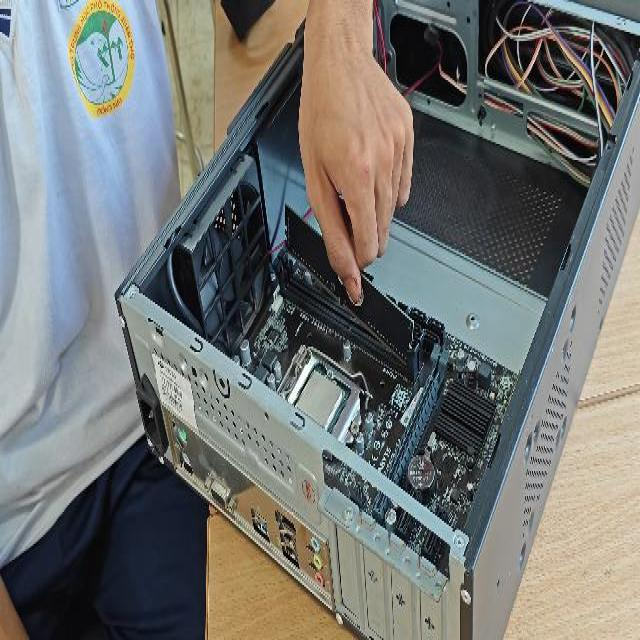CPU: (294, 370, 345, 430)
Mainboard: (235, 261, 518, 578)
RAM: (282, 200, 414, 365)
